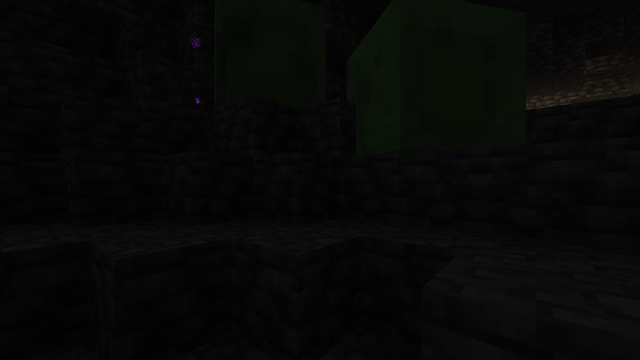slimes: (336, 5, 500, 159), (194, 5, 331, 113)
